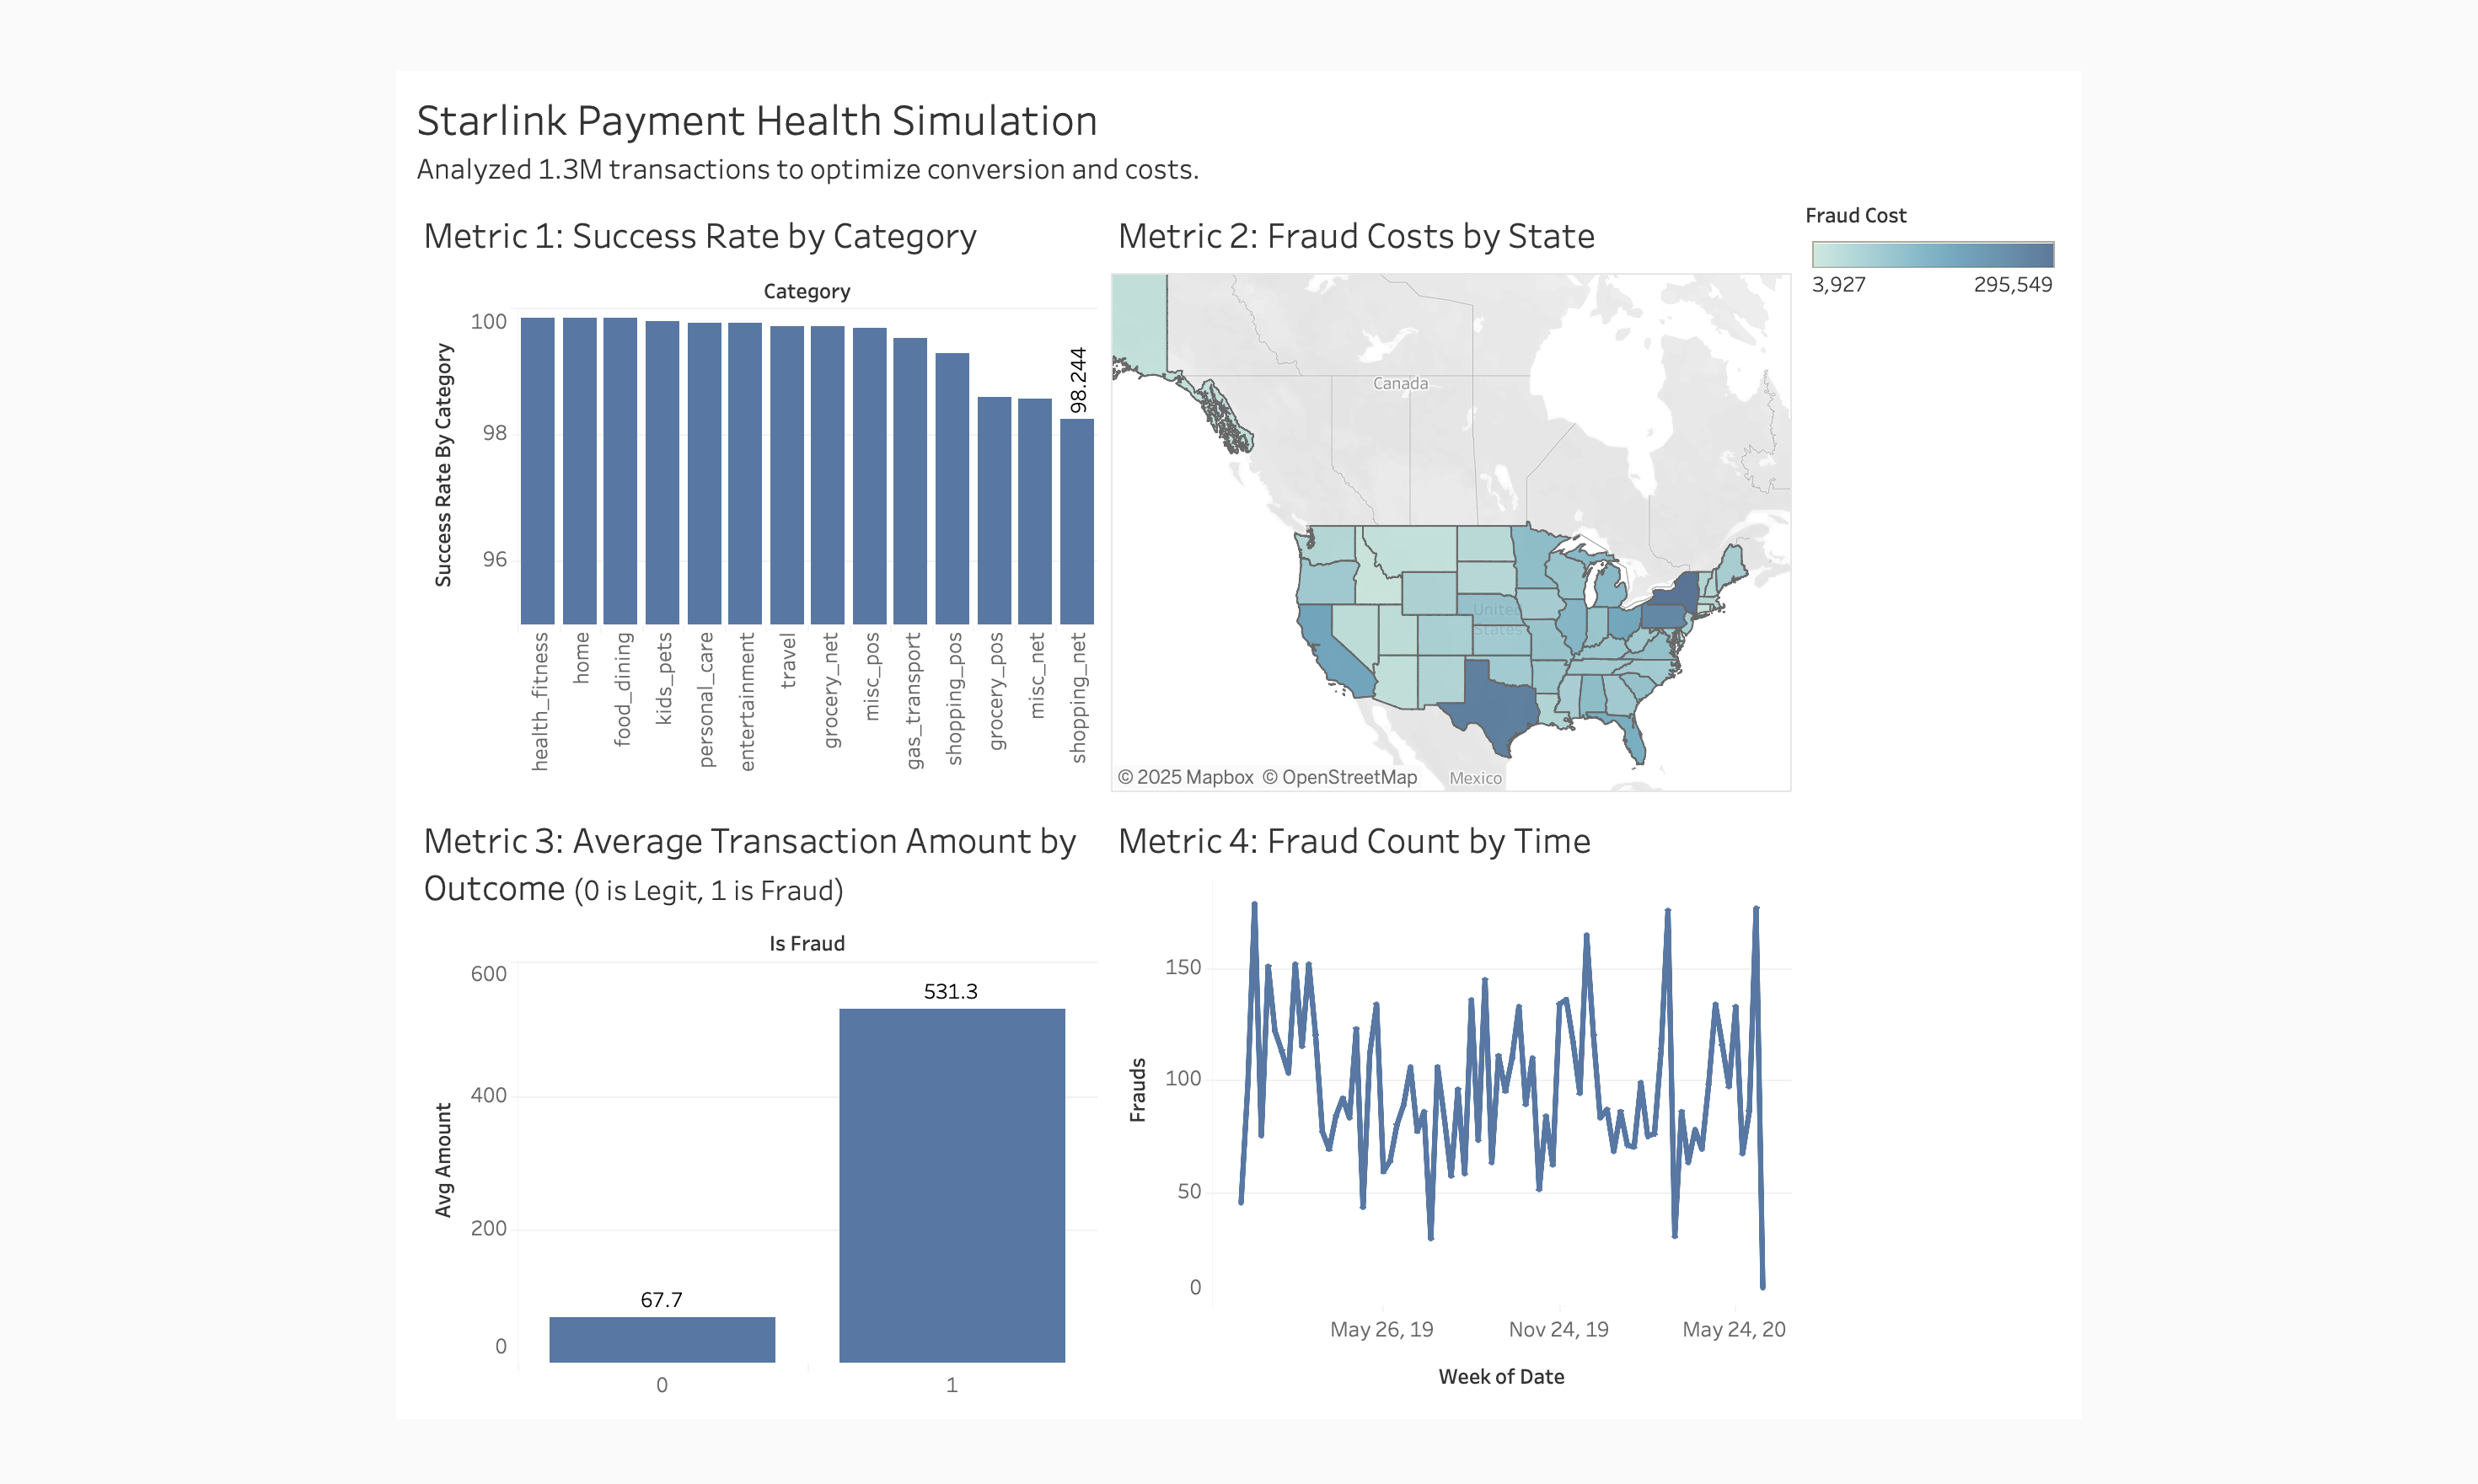

What the dashboard file says about the page in this screenshot:
{"tool":"tableau","page":{"name":"Dashboard 1","canvas":[1000,800],"ordinal":0},"visuals":[{"type":"title","box":[8,8,984,65]},{"type":"worksheet","title":"Sheet 1","mark":"Automatic","rows":["SuccessRateByCategory"],"cols":["category"],"box":[8,73,412,359.5]},{"type":"worksheet","title":"Sheet 2","mark":"Automatic","box":[420,73,412,359.5]},{"type":"legend","title":"Sheet 2","param":"[federated.1paqmy90a70n3p14mc5gn0kpvtid].[attr:FraudCost:qk]","box":[832,73,160,68]},{"type":"worksheet","title":"Sheet 3","mark":"Automatic","rows":["AvgAmount"],"cols":["is_fraud"],"box":[8,432.5,412,359.5]},{"type":"worksheet","title":"Sheet 4","mark":"Automatic","rows":["Frauds"],"cols":["Date"],"box":[420,432.5,412,359.5]}]}

Visuals, with their boxes on the page's 1000x800 design canvas (x1, y1, x2, y2). These are canvas units, not pixel positions in the 2478x1484 screenshot, which may show the page scaled, cropped or inside an application window:
title: 8:8:992:73
"Sheet 1" worksheet: 8:73:420:432
"Sheet 2" worksheet: 420:73:832:432
"Sheet 2" legend: 832:73:992:141
"Sheet 3" worksheet: 8:432:420:792
"Sheet 4" worksheet: 420:432:832:792
